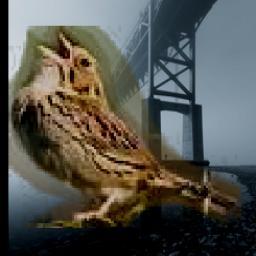Sparrow: (8, 26, 241, 228)
